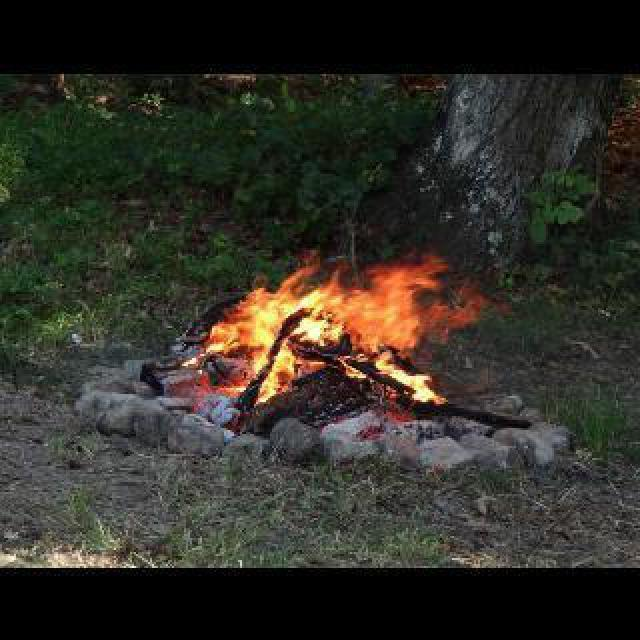Fire: (196, 250, 512, 408)
